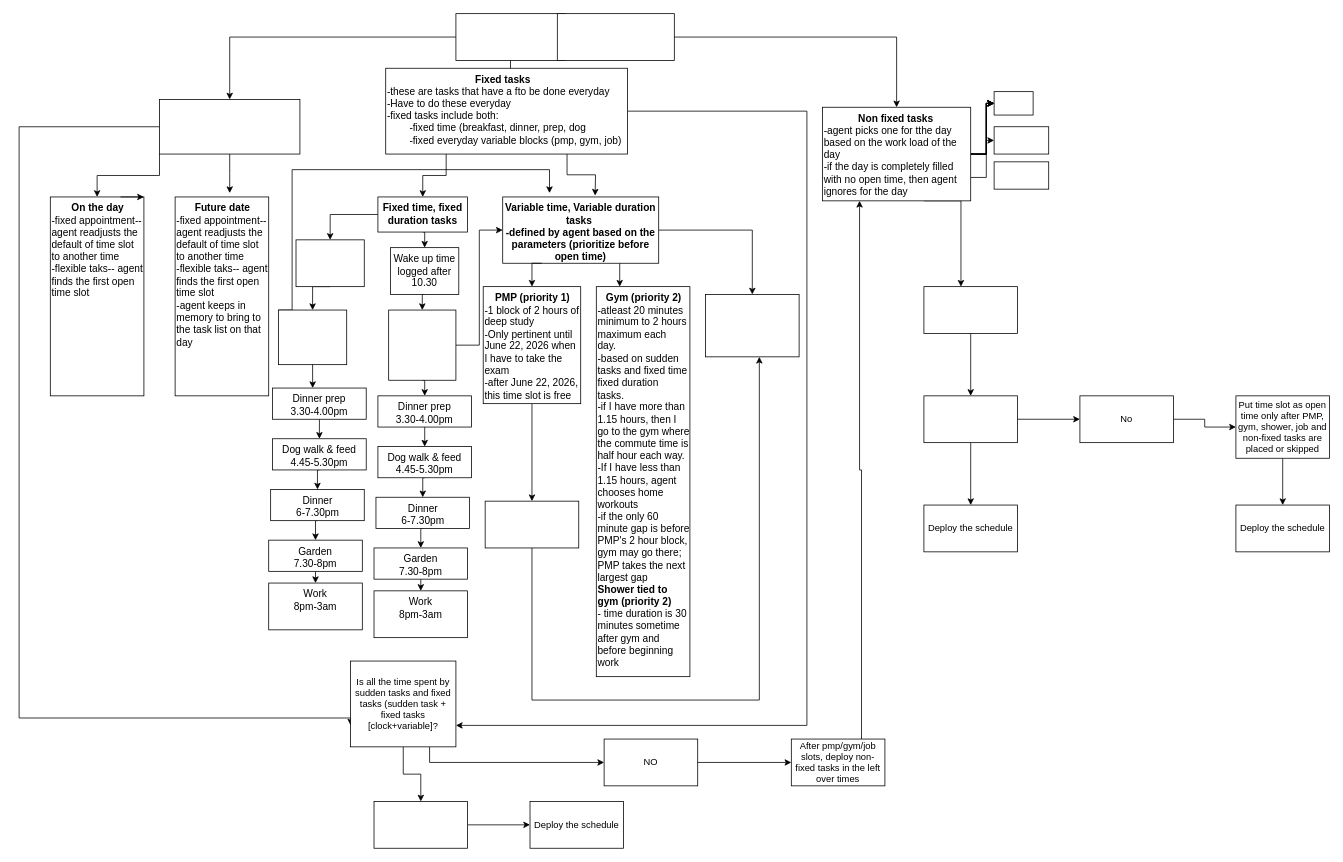
The diagram is 1343 pixels wide and 862 high, and some of its shapes have lost their labels. The shapes that lost their labels are listed below. From the top down, each one's centre as x and y in pixels, then its label:
the point at 510,36: weekday -my are Sunday-thursday
the point at 615,36: Tasks for the day start based on wake up time logged
the point at 1013,103: Read
the point at 229,126: sudden tasks -these are tasks or appointments that suddenly come up
the point at 1021,140: Do AI work
the point at 1021,175: Qgis
the point at 329,263: Wake up time logged before 10.30
the point at 752,325: Job applications (priority 3) 30 minutes atleast everyday
the point at 970,309: Is all the time spent by sudden tasks, fixed tasks and non fixed tasks?
the point at 312,337: Breakfast Time duration of 1 hour from waking up
the point at 422,344: Breakfast Time duration of 30 mins from waking up
the point at 970,419: Yes
the point at 531,524: after June 22, 2026
the point at 420,824: YES (no non-fixed time and no open time)
